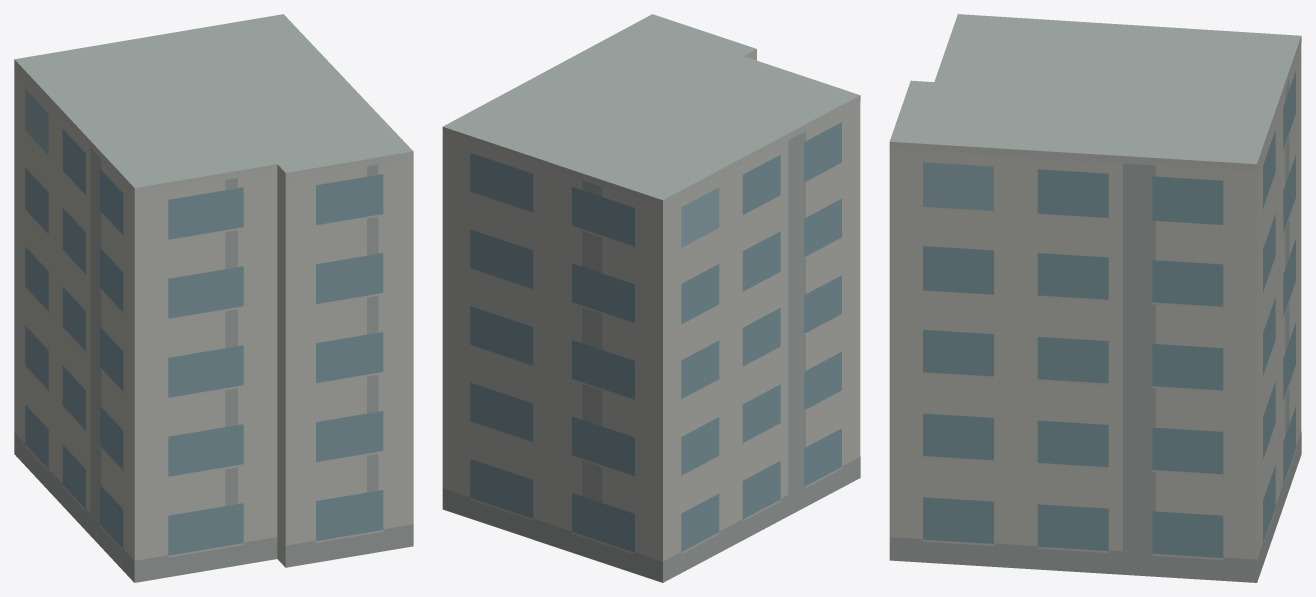
File: survey-upis-32938955.glb
3 views of the same model, side by side, from view 1: azimuth 30°, elevation 25°; view 2: azimuth 150°, elevation 25°; view 3: azimuth 270°, elevation 25° (orthographic). The views are drawn at different scales.
Parts seen in each view (by area): view 1: survey-upis-32938955.tmp; view 2: survey-upis-32938955.tmp; view 3: survey-upis-32938955.tmp.
Part boxes in pixels (box(x1,y1,x2,y2)): survey-upis-32938955.tmp: box(14, 14, 413, 582); survey-upis-32938955.tmp: box(442, 14, 860, 582); survey-upis-32938955.tmp: box(889, 14, 1301, 582).
Size of the model in its own units: 10.47 by 13.6 by 12.13.
